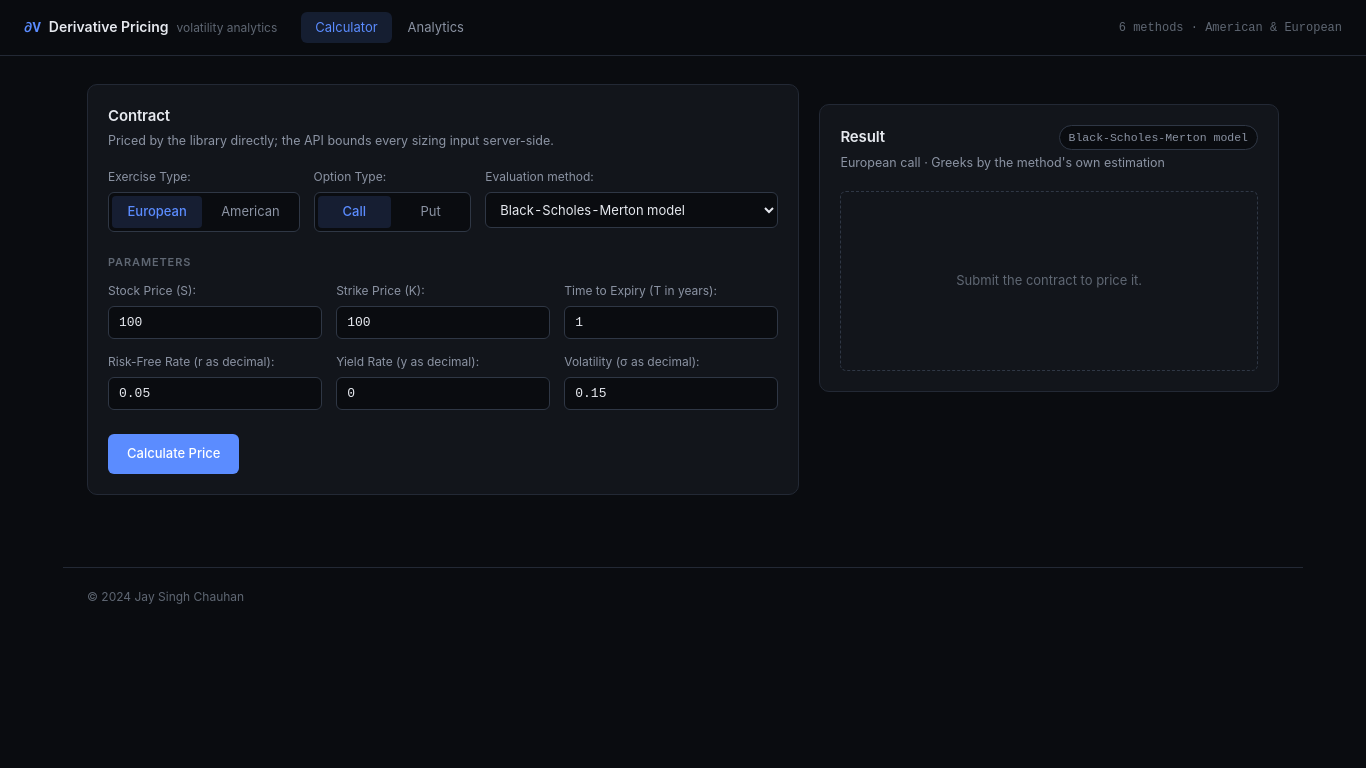
Test: a rejected request › surfaces the API's error rather than failing silently
Click the button "Calculate Price" at coordinates (174, 454), box left=108, top=434, right=240, bottom=474
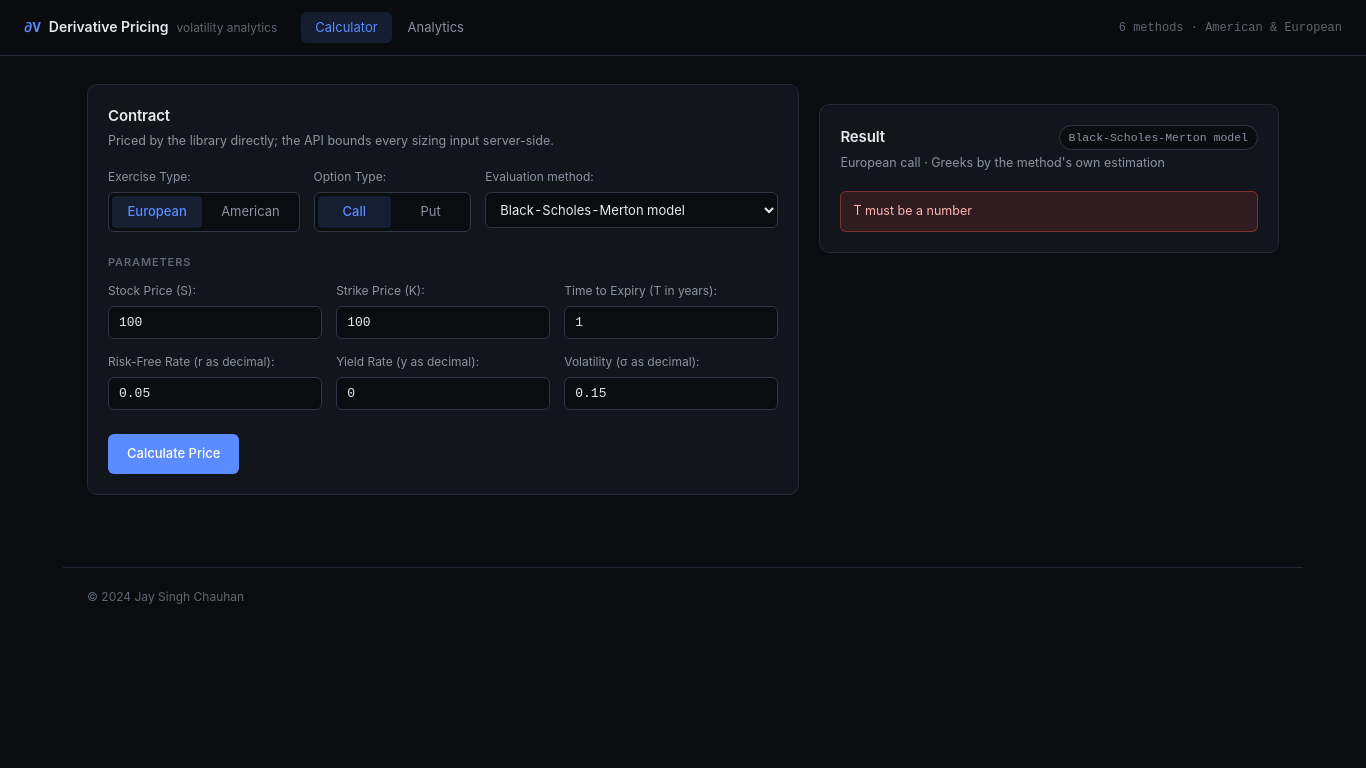
Expected: the message reads "T must be a number", left=853, top=203, right=972, bottom=218
